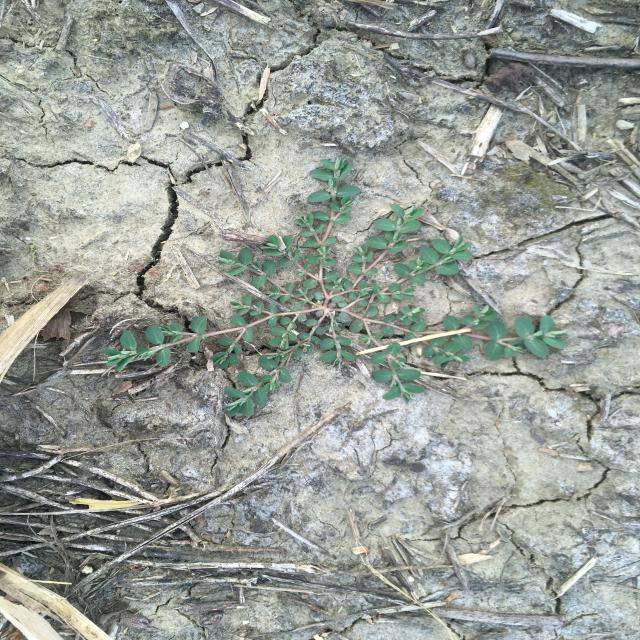SpottedSpurge: (103, 155, 571, 421)
